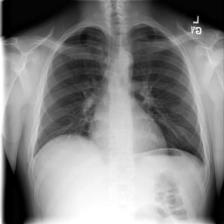normal: (29, 21, 210, 170)
